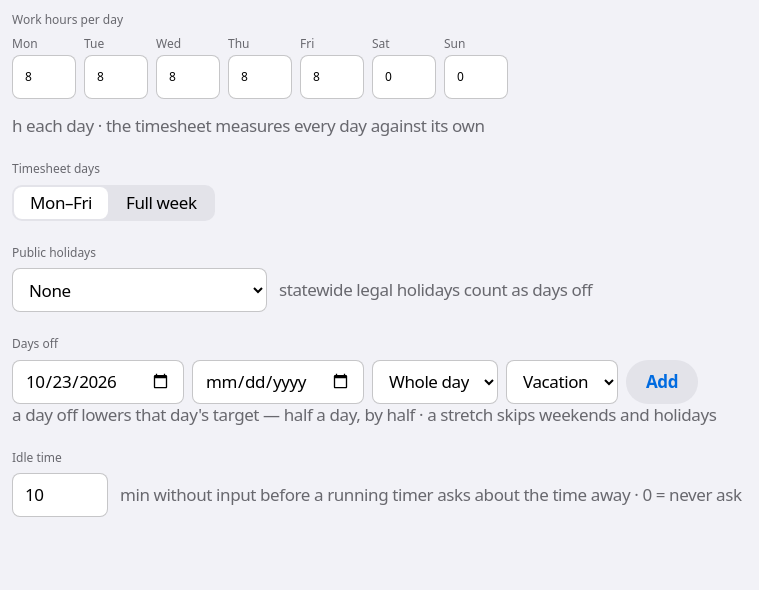
Test: days off › will not mark a day without a date
The width and height of the screenshot is (759, 590).
Clear the date field named "Day off from" at (98,382), box top-left (12, 360), bottom-right (184, 404)
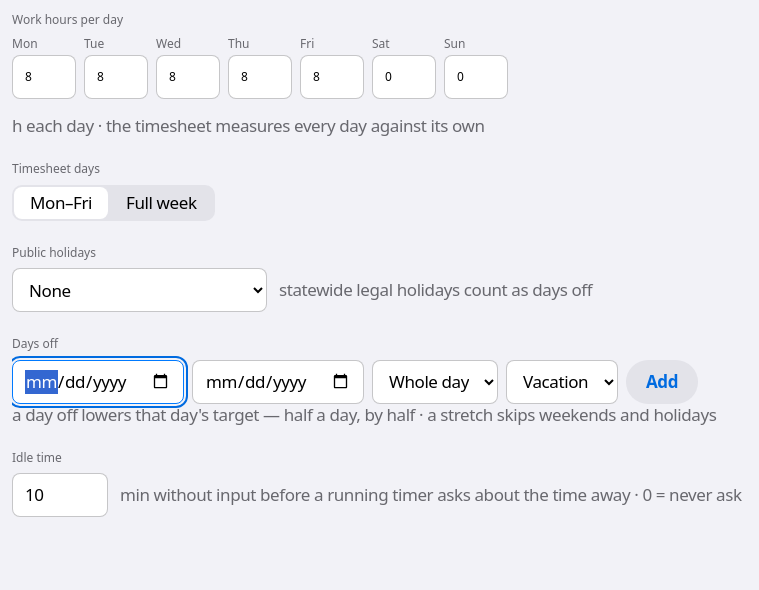
Click the button "Add" at (662,382), box top-left (626, 360), bottom-right (698, 404)
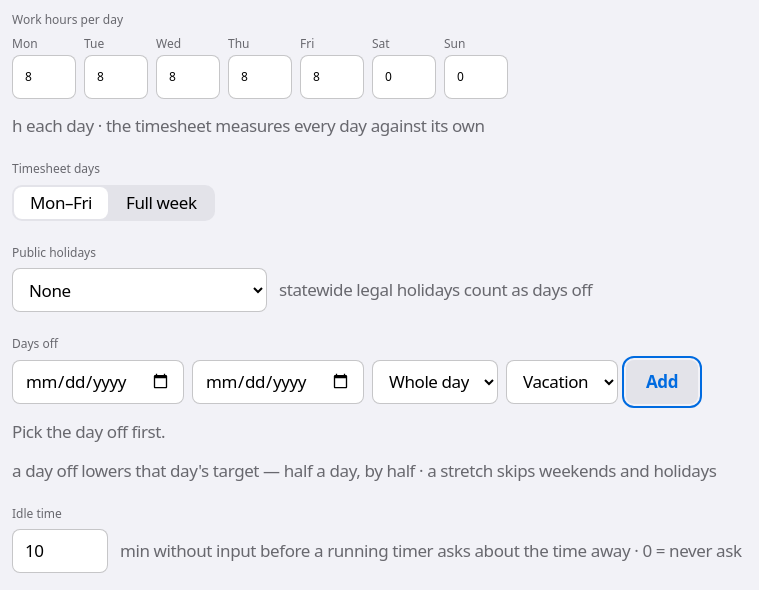
Result: the text "Pick the day off first." is shown at top-left (12, 420), bottom-right (165, 443)
